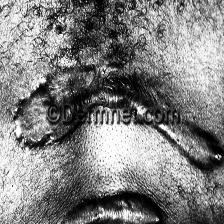Benign Marking or Mole: (12, 82, 224, 172), (54, 191, 165, 224)
